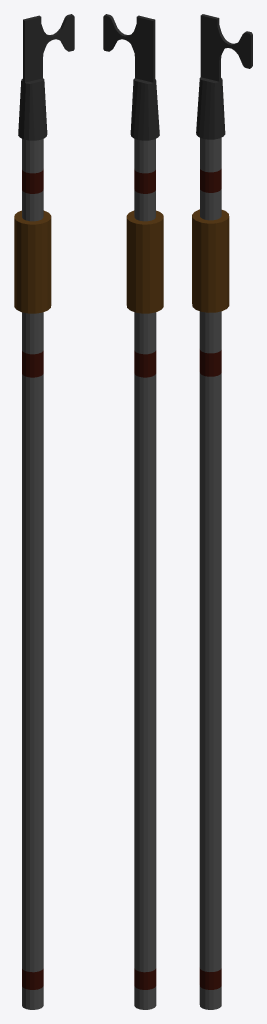
Rendered from Brake Stick.obj.
The picture shows the model from 3 angles, left to right: view 1: azimuth 30°, elevation 25°; view 2: azimuth 150°, elevation 25°; view 3: azimuth 330°, elevation 25°; orthographic projection.
Visible parts, largest first — view 1: brake_stick_Cylinder; view 2: brake_stick_Cylinder; view 3: brake_stick_Cylinder.
Boxes of the visible parts, box(x1,y1,x2,y2) form: brake_stick_Cylinder: box(14, 14, 74, 1009); brake_stick_Cylinder: box(103, 14, 163, 1009); brake_stick_Cylinder: box(192, 14, 252, 1009).
Size of the model in its own units: 0.0875 by 1.44 by 0.0496.
